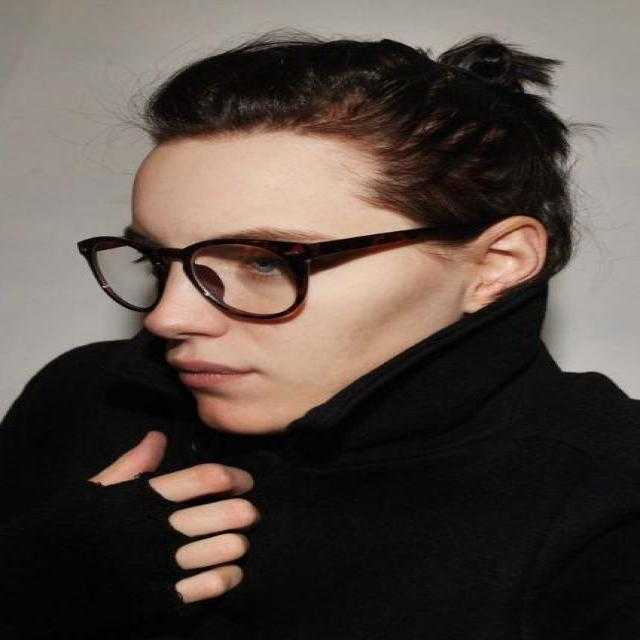glasses: (80, 228, 492, 322)
